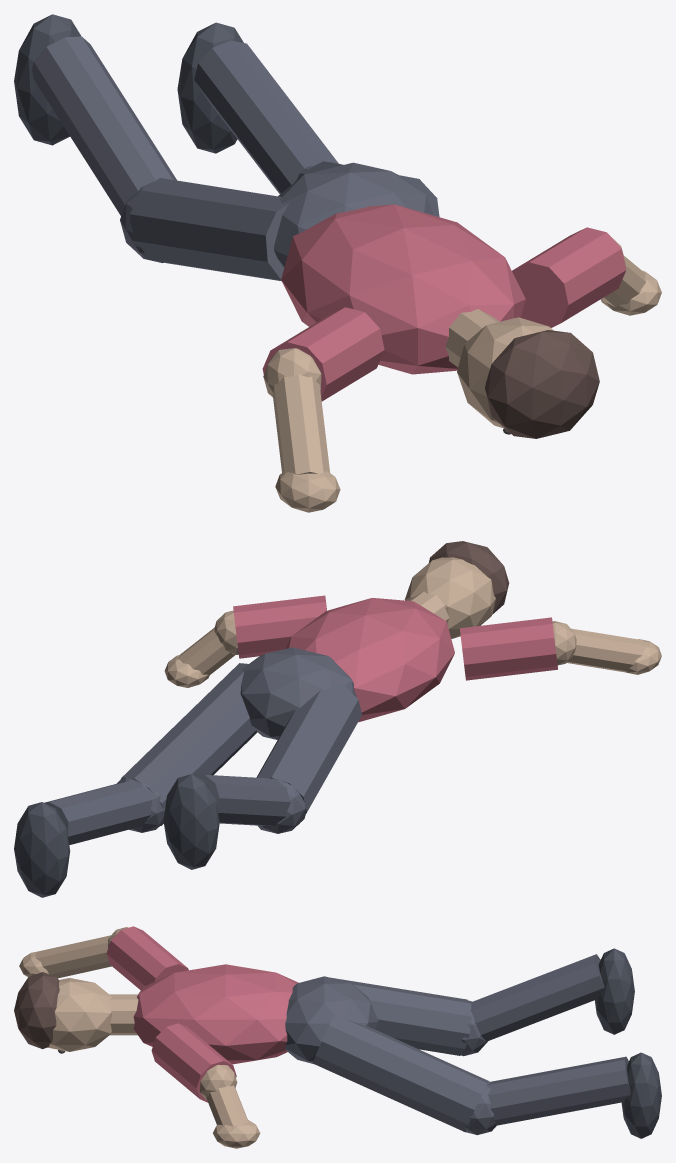
3 views of the same model, one above another, from view 1: azimuth 30°, elevation 25°; view 2: azimuth 150°, elevation 25°; view 3: azimuth 270°, elevation 25° (orthographic). The views are drawn at different scales.
Visible parts, largest first — view 1: world; view 2: world; view 3: world.
Part boxes in pixels (box(x1,y1,x2,y2)): world: box(14, 14, 661, 512); world: box(14, 541, 661, 897); world: box(14, 926, 661, 1148).
Bounding box in the file's own units: 1.25 × 0.4556 × 2.04.
